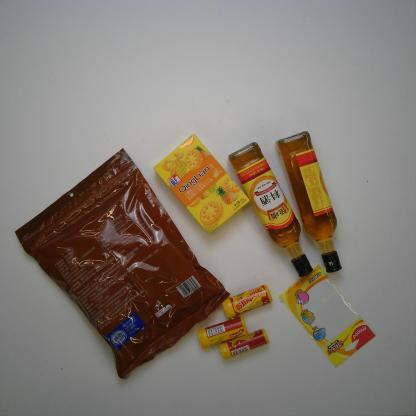Candy: (193, 313, 250, 352), (222, 283, 274, 319), (220, 327, 272, 361)
Dessert: (152, 132, 250, 235)
Dried Food: (13, 145, 233, 384)
Seasoner: (226, 141, 314, 280), (274, 130, 343, 274)
Stationery: (278, 264, 378, 370)
